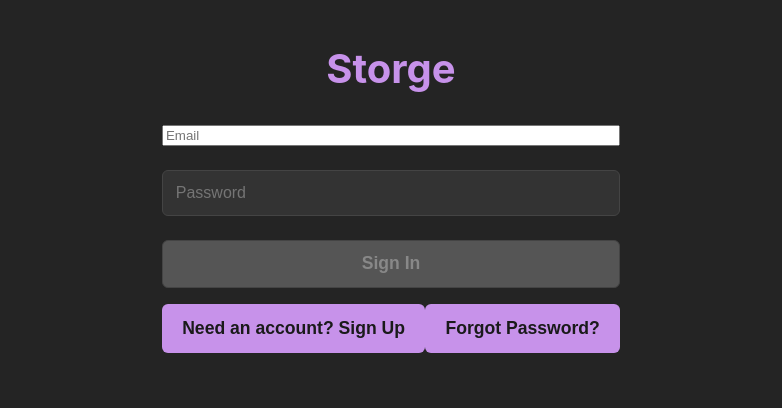
Scenario: LoginPage Component › switches to sign-up mode and handles successful sign-up
Click the button "Need an account? Sign Up" at (294, 328), box [162,304,425,353]
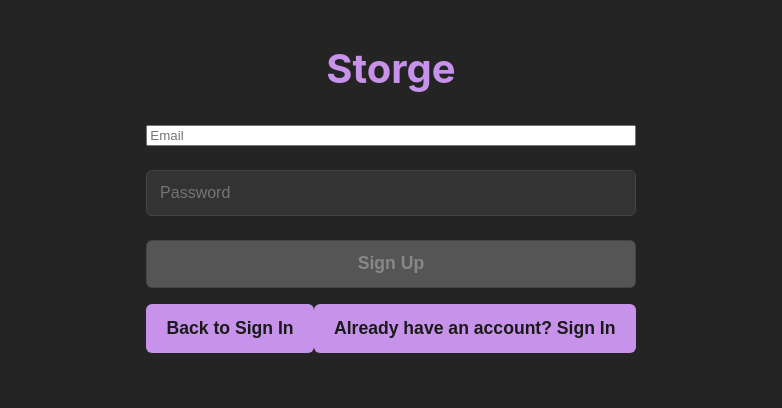
Check: the button "Sign Up" is shown, box [146,240,636,288]
Type "new@example.com" into the field with placeholder "Email" at (391, 136), box [146,125,636,146]
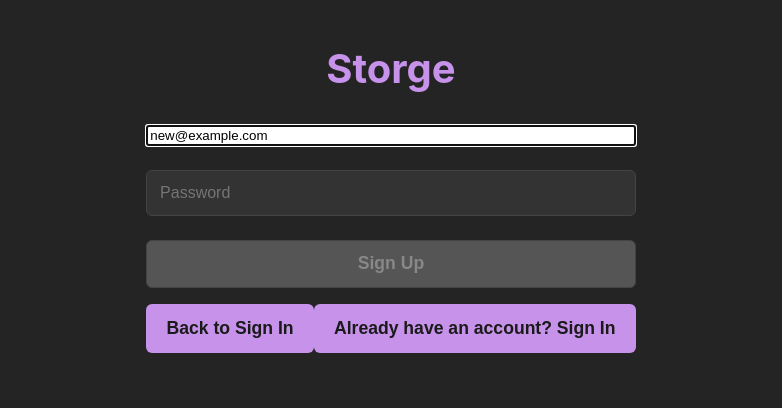
Type "newpassword123" into the password field with placeholder "Password" at (391, 193), box [146,170,636,216]
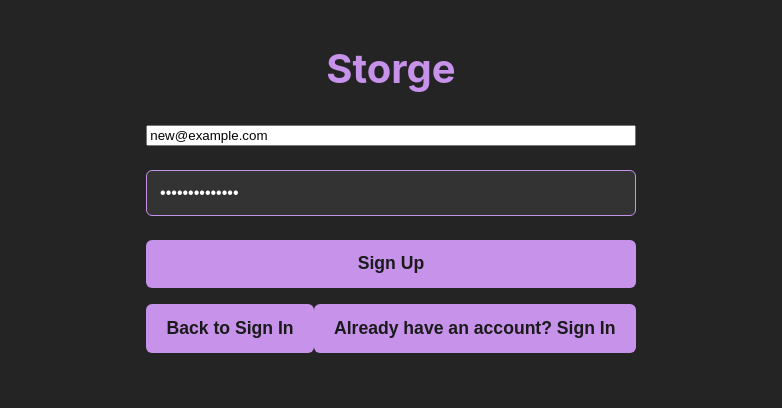
Click the button "Sign Up" at (391, 264), box [146,240,636,288]
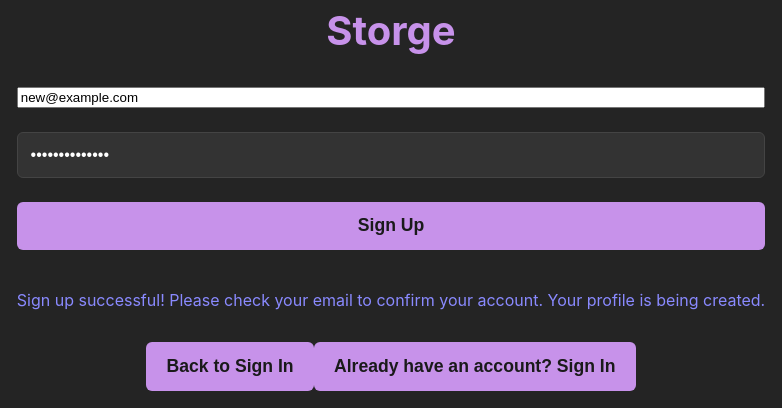
Check: the text "Sign up successful!" is shown, box [17,290,765,310]
